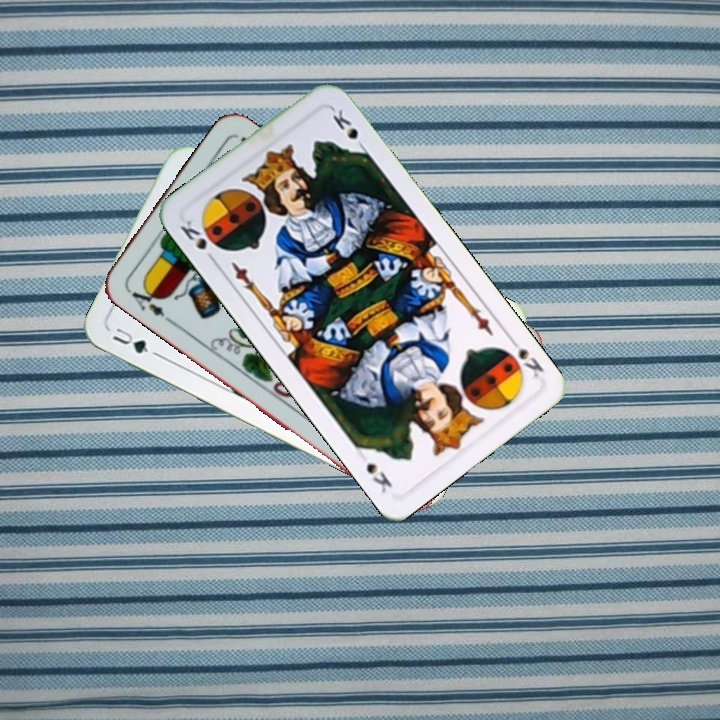EA: (127, 281, 174, 325)
GU: (108, 323, 161, 359)
SK: (176, 214, 222, 266), (498, 332, 547, 380)
